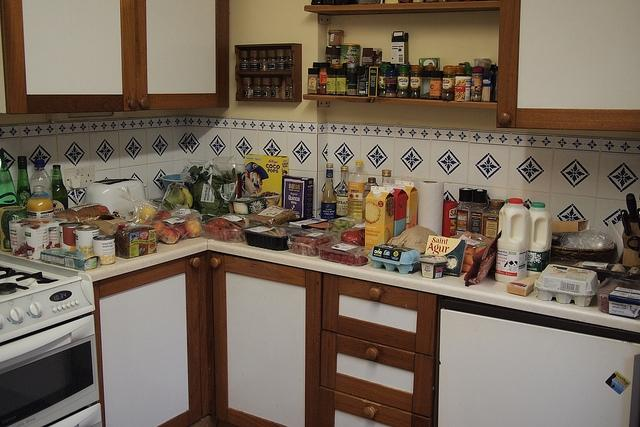apple: (184, 220, 202, 238), (161, 227, 179, 244), (150, 222, 166, 241), (155, 210, 172, 221), (173, 225, 186, 238), (143, 221, 151, 225)
banana: (164, 189, 185, 206), (178, 185, 192, 208)
tomato: (219, 229, 231, 241), (210, 227, 220, 240), (303, 248, 310, 256), (300, 240, 308, 244), (307, 240, 314, 244)
